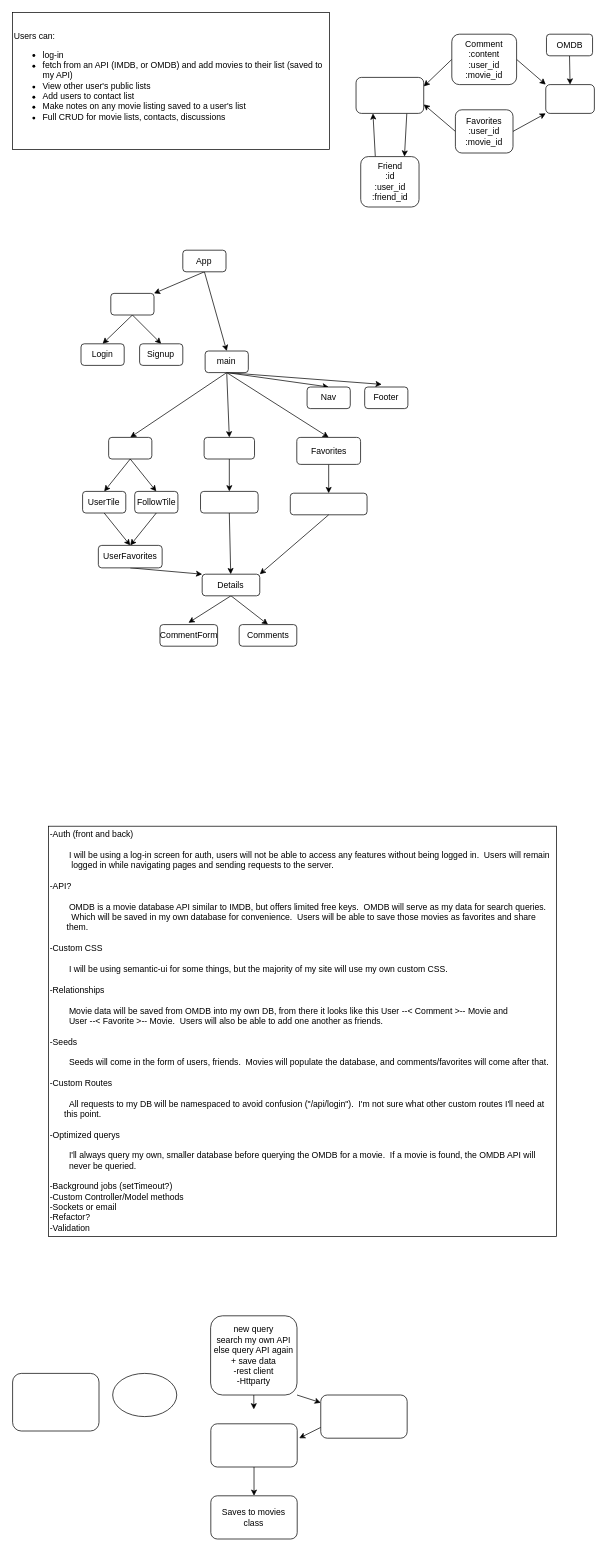
The diagram is 607 pixels wide and 1552 high, and some of its shapes have lost their labels. Here are the shapes that lost their labels. From the top down, the box of each, then its label:
(355, 77, 424, 113): User :username :password
(545, 84, 594, 113): Movies :IMDB_id
(110, 293, 154, 315): Splash
(108, 437, 152, 459): Home
(203, 437, 255, 459): Search
(200, 491, 258, 513): SearchTile
(290, 492, 367, 515): FavoriteMovieTile
(12, 1373, 99, 1431): search yeilds the smaller data for a movie
(112, 1373, 177, 1417): click tile
(320, 1394, 407, 1438): Movie (class)
(210, 1423, 297, 1467): specific movie query shows more detailed info
